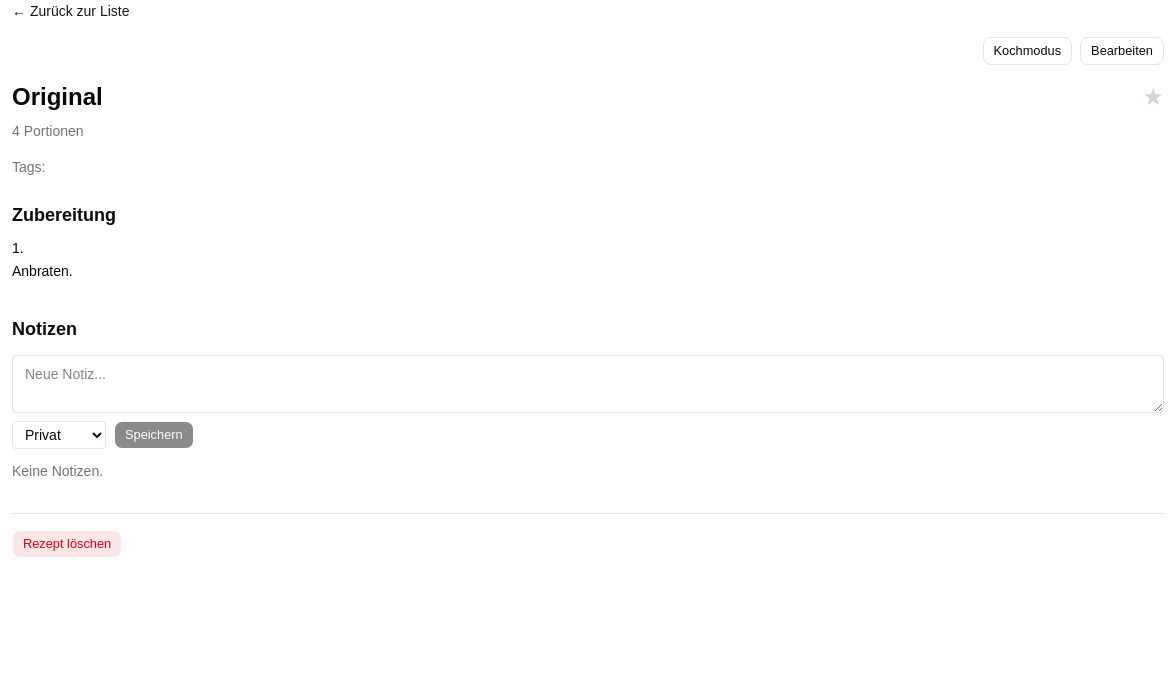
Test case: RecipeDetailPage inline edit mode › renders a server error inline in edit mode and preserves local edits
Click the button "Bearbeiten". click: (1122,51)
box: [1080, 37, 1164, 65]
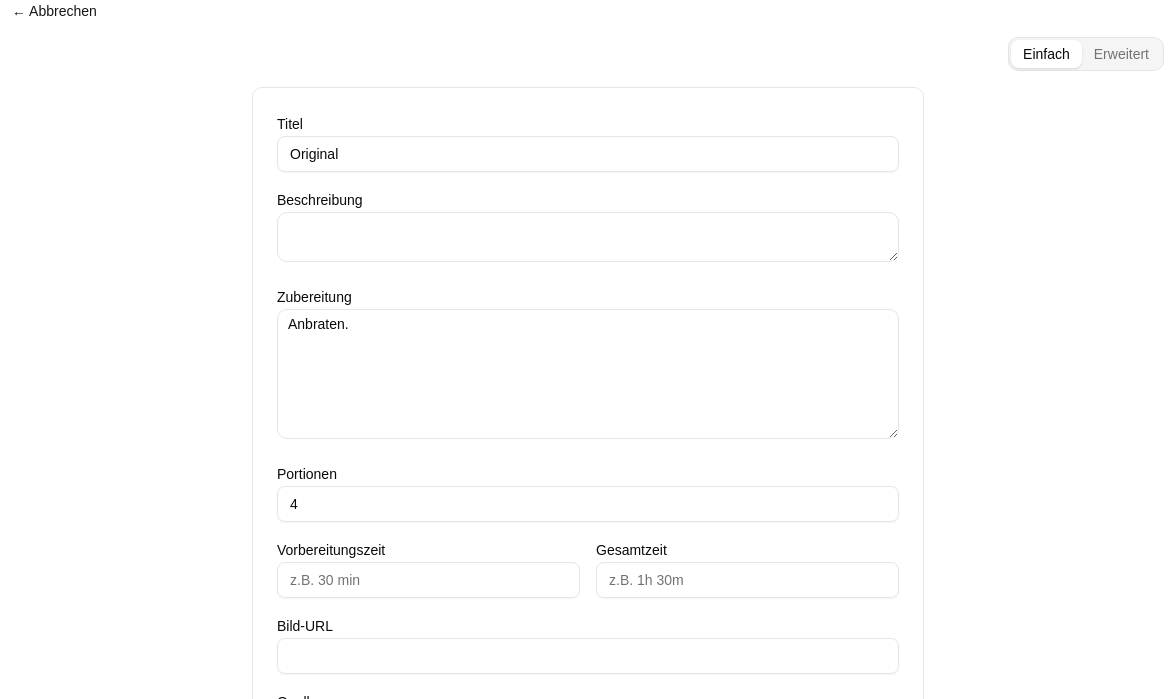
Replace the text in the field labelled "Titel" with "Bleibt". click: (588,154)
box: [277, 136, 899, 172]
(page scrolled)
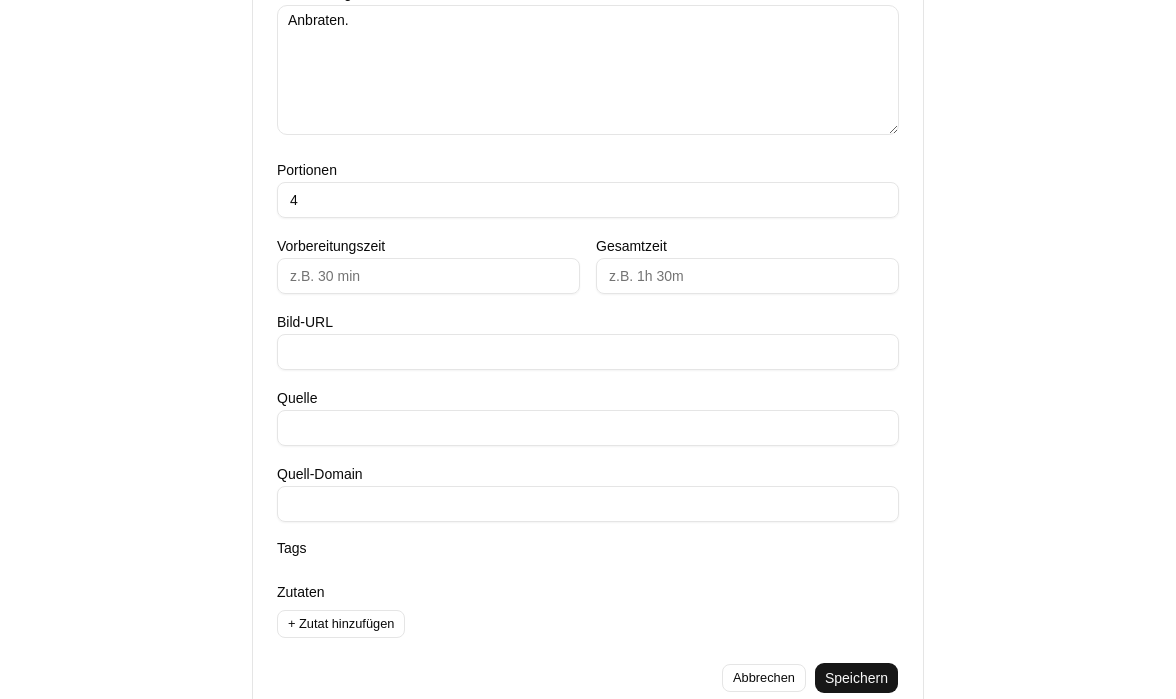
Click the button "Speichern". click: (856,678)
box: [814, 662, 899, 694]
(page scrolled)
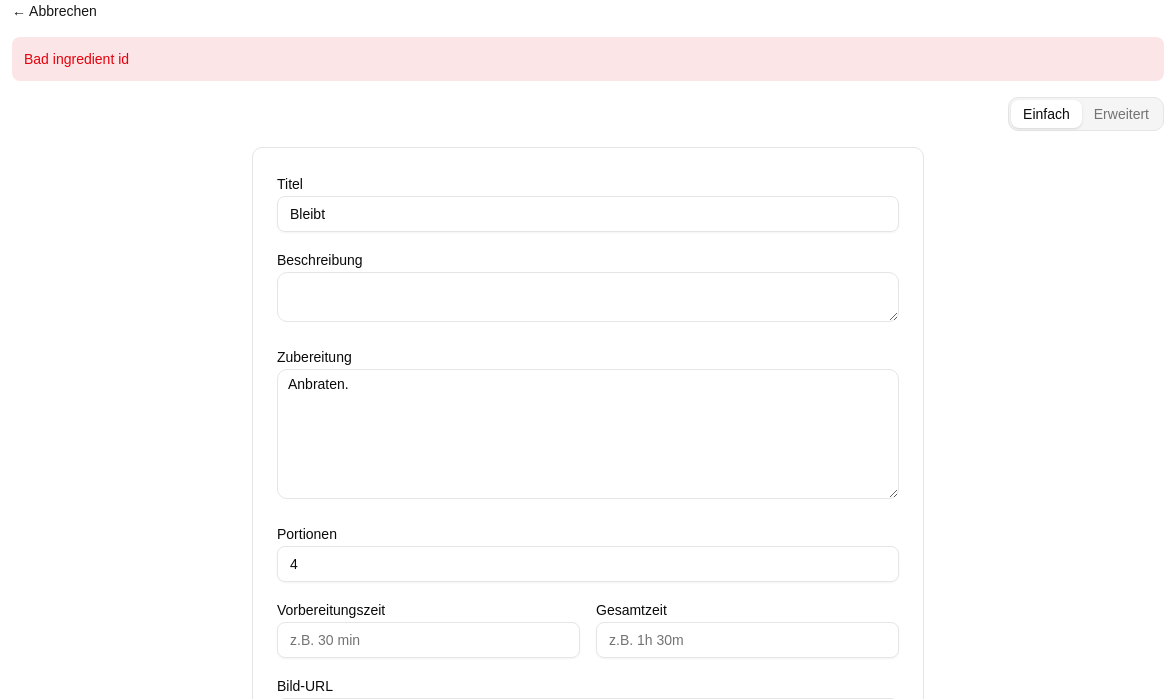
Expected: the message reads "Bad ingredient id", [24, 51, 129, 67]
